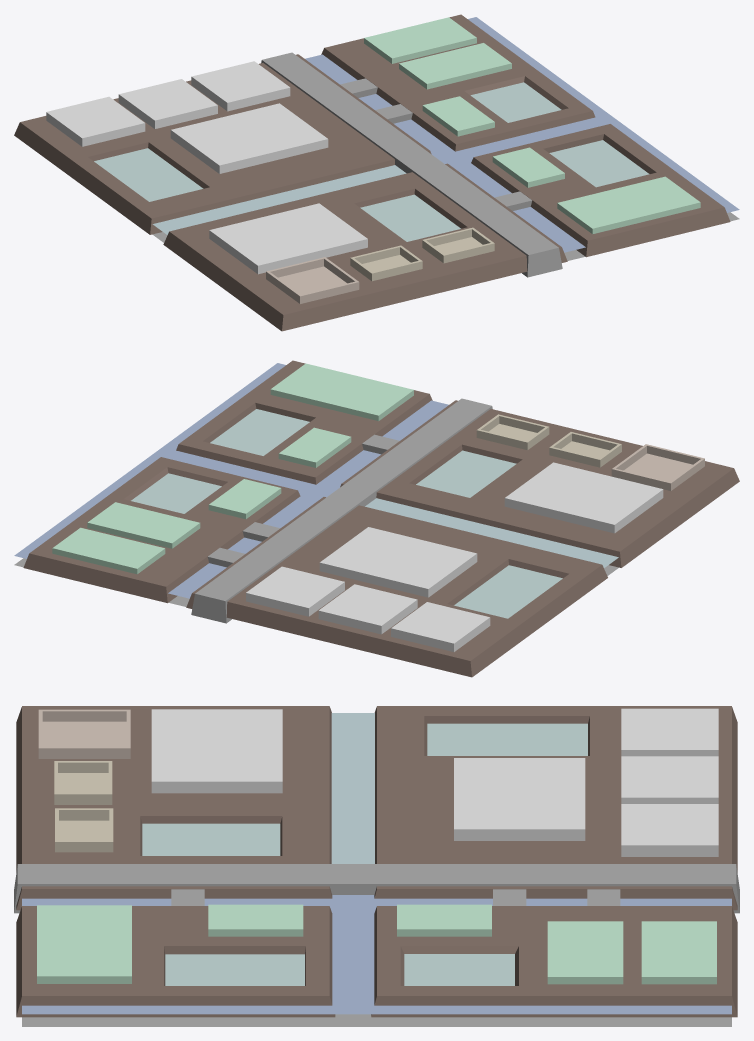
Rendered from Map VU2.fbx.
The picture shows the model from 3 angles, top to bottom: view 1: azimuth 30°, elevation 25°; view 2: azimuth 150°, elevation 25°; view 3: azimuth 270°, elevation 25°; orthographic projection. The views are drawn at different scales.
Parts seen in each view (by area): view 1: nen_dat, de1, bien, khu_vuc_trong_cay2, khu_vuc_trong_cay1, khu_vuc_trong_cay_chiu_man1, khu_vuc_trong_cay5, khu_vuc_trong_cay4, khu_vuc_trong_cay3, khu_vuc_trong_cay_chiu_man4, khu_vuc_trong_cay_chiu_man5, ao1 (+9 smaller); view 2: nen_dat, de1, bien, khu_vuc_trong_cay1, khu_vuc_trong_cay2, khu_vuc_trong_cay_chiu_man1, khu_vuc_trong_cay3, khu_vuc_trong_cay5, khu_vuc_trong_cay4, khu_vuc_trong_cay_chiu_man4, khu_vuc_trong_cay_chiu_man5, ao1 (+9 smaller); view 3: nen_dat, de1, bien, khu_vuc_trong_cay1, khu_vuc_trong_cay2, khu_vuc_trong_cay_chiu_man1, grid_30_x_30, song1, ao1, khu_vuc_trong_cay4, khu_vuc_trong_cay_chiu_man4, khu_vuc_trong_cay_chiu_man5 (+13 smaller).
Boxes of the visible parts, x1,y1,x2,y2 form: nen_dat: (14,14,730,331); de1: (261,52,562,277); bien: (305,17,739,252); khu_vuc_trong_cay2: (170,103,328,173); khu_vuc_trong_cay1: (209,203,367,274); khu_vuc_trong_cay_chiu_man1: (557,176,700,234); khu_vuc_trong_cay5: (46,96,145,146); khu_vuc_trong_cay4: (191,61,290,111); khu_vuc_trong_cay3: (118,79,217,128); khu_vuc_trong_cay_chiu_man4: (399,43,511,89); khu_vuc_trong_cay_chiu_man5: (364,17,476,63); ao1: (94,148,203,201); nen_dat: (23,360,739,677); de1: (191,398,492,623); bien: (14,363,448,598); khu_vuc_trong_cay1: (504,462,663,533); khu_vuc_trong_cay2: (319,527,477,597); khu_vuc_trong_cay_chiu_man1: (270,363,413,421); khu_vuc_trong_cay3: (318,584,417,634); khu_vuc_trong_cay5: (391,602,490,651); khu_vuc_trong_cay4: (246,566,344,616); khu_vuc_trong_cay_chiu_man4: (87,502,200,548); khu_vuc_trong_cay_chiu_man5: (52,527,165,574); ao1: (454,565,562,618); nen_dat: (16,706,737,1017); de1: (14,864,739,913); bien: (22,895,731,1014); khu_vuc_trong_cay1: (151,709,282,793); khu_vuc_trong_cay2: (454,758,585,840); khu_vuc_trong_cay_chiu_man1: (37,905,131,983); grid_30_x_30: (22,1014,731,1026); song1: (331,713,374,863); ao1: (427,723,587,755); khu_vuc_trong_cay4: (621,804,718,856); khu_vuc_trong_cay_chiu_man4: (547,921,623,984); khu_vuc_trong_cay_chiu_man5: (641,921,716,984).
Bounding box in the file's own units: 21.06 × 1.29 × 21.37.
